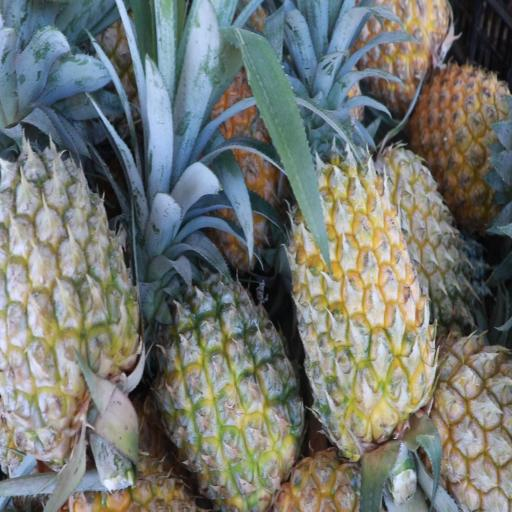------------------------------: (0, 151, 138, 444)
Pineapple - v8 v1: (290, 157, 426, 445), (163, 272, 298, 500), (419, 67, 512, 202), (354, 0, 445, 96)
